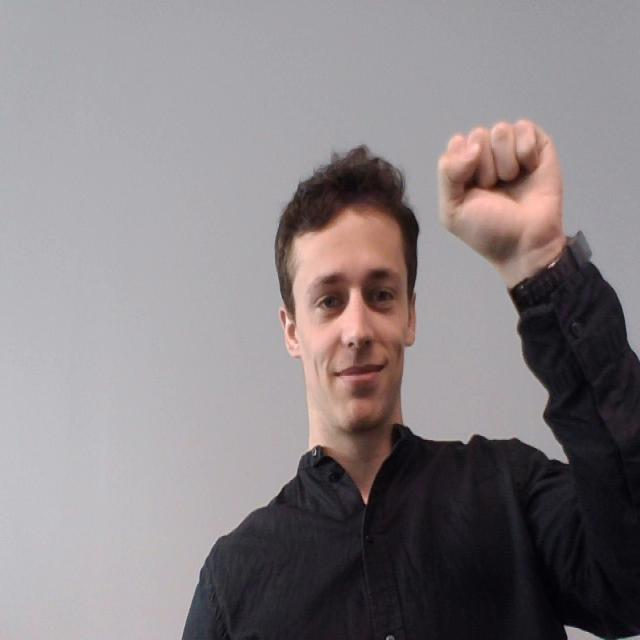stop: (440, 100, 566, 262)
